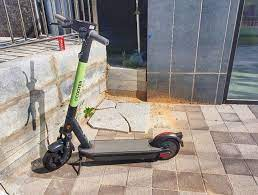kick_board: (42, 15, 184, 171)
kick_body: (86, 141, 151, 159)
kick_handler: (50, 14, 108, 44)
kick_neck: (62, 47, 90, 131)
kick_wheel: (44, 140, 73, 169), (155, 132, 180, 159)
